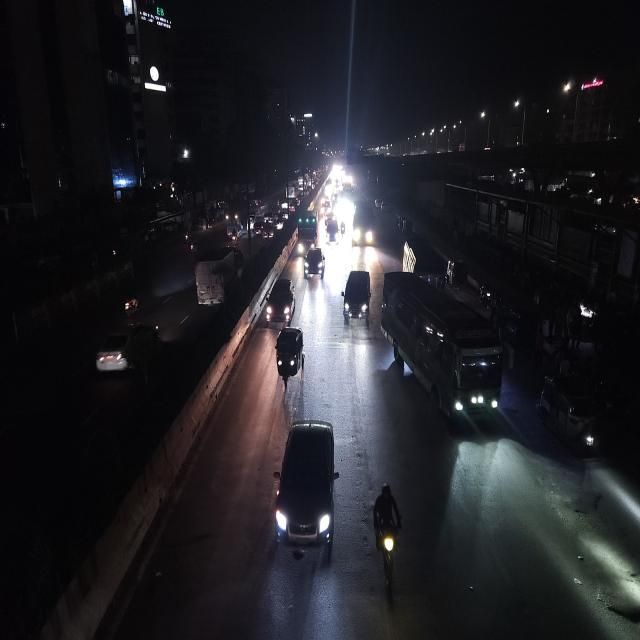bus: (380, 270, 506, 424), (400, 233, 448, 287)
car: (273, 413, 340, 562), (92, 320, 165, 383), (340, 265, 374, 329), (264, 274, 296, 328), (350, 201, 376, 249), (302, 245, 327, 282), (324, 214, 340, 250), (320, 198, 331, 215), (254, 220, 264, 238), (264, 222, 274, 240)
cng: (535, 370, 605, 460), (272, 323, 308, 392)
motorcycle: (372, 478, 404, 594), (120, 294, 142, 318)
truck: (190, 244, 242, 314), (297, 207, 319, 256)
